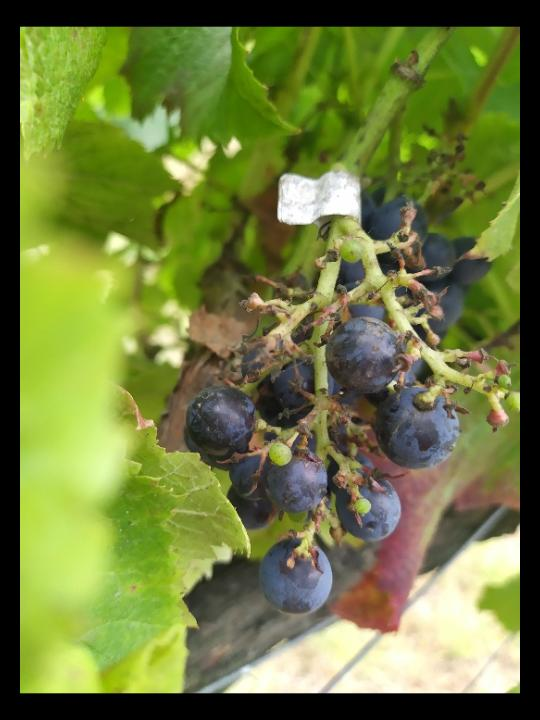grape: (180, 201, 517, 620)
